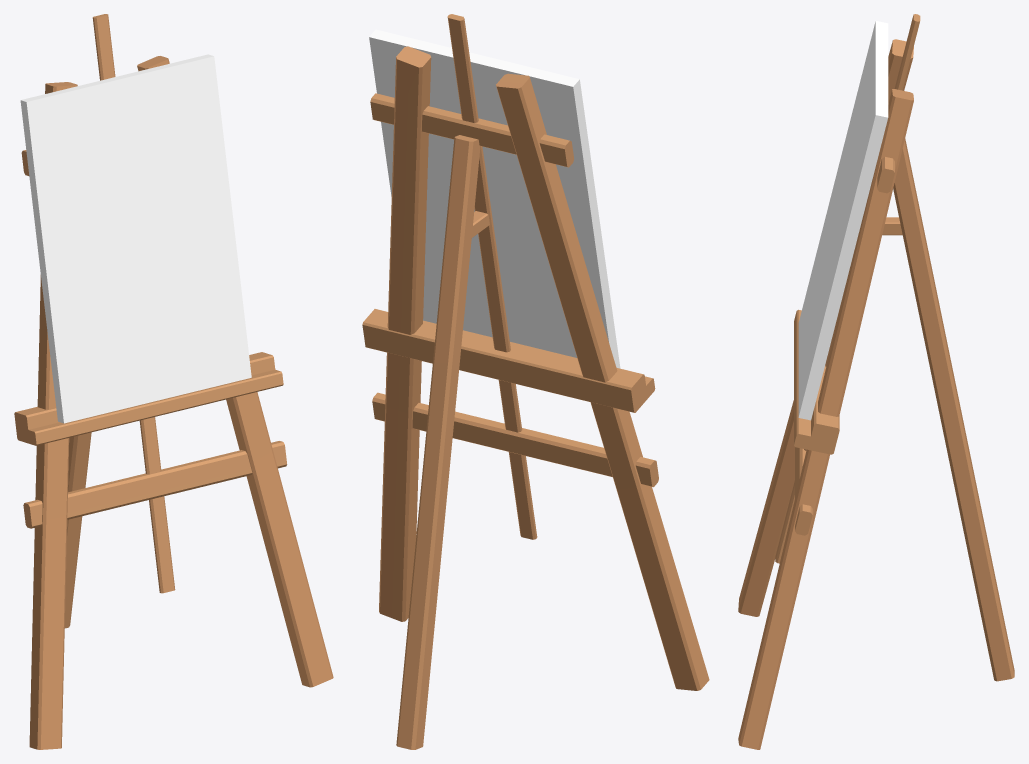
3 views of the same model, side by side, from view 1: azimuth 30°, elevation 25°; view 2: azimuth 150°, elevation 25°; view 3: azimuth 270°, elevation 25° (orthographic). The views are drawn at different scales.
Parts seen in each view (by area): view 1: EasleWithCanvas; view 2: EasleWithCanvas; view 3: EasleWithCanvas.
Boxes of the visible parts, x1,y1,x2,y2 form: EasleWithCanvas: (14,14,333,749); EasleWithCanvas: (362,14,709,749); EasleWithCanvas: (738,14,1014,749).
Size of what is drawn, in the model's own units: 0.9774 by 2.03 by 0.7673.
1 material, 1 textured.
